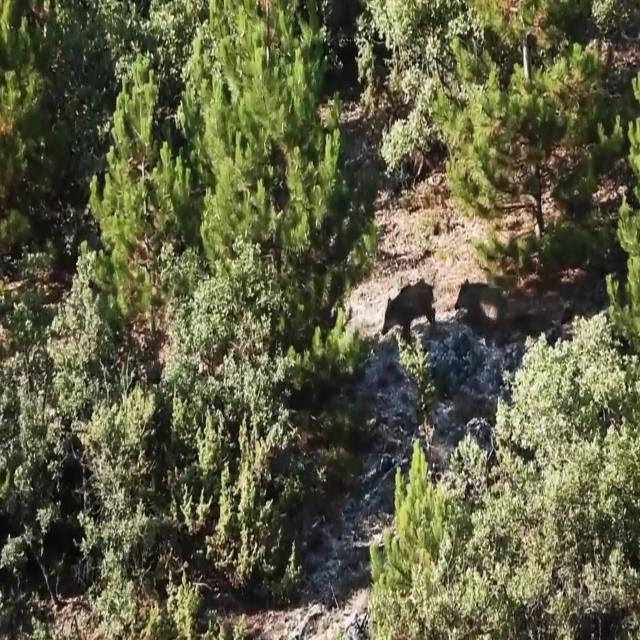pig: (376, 256, 461, 408)
